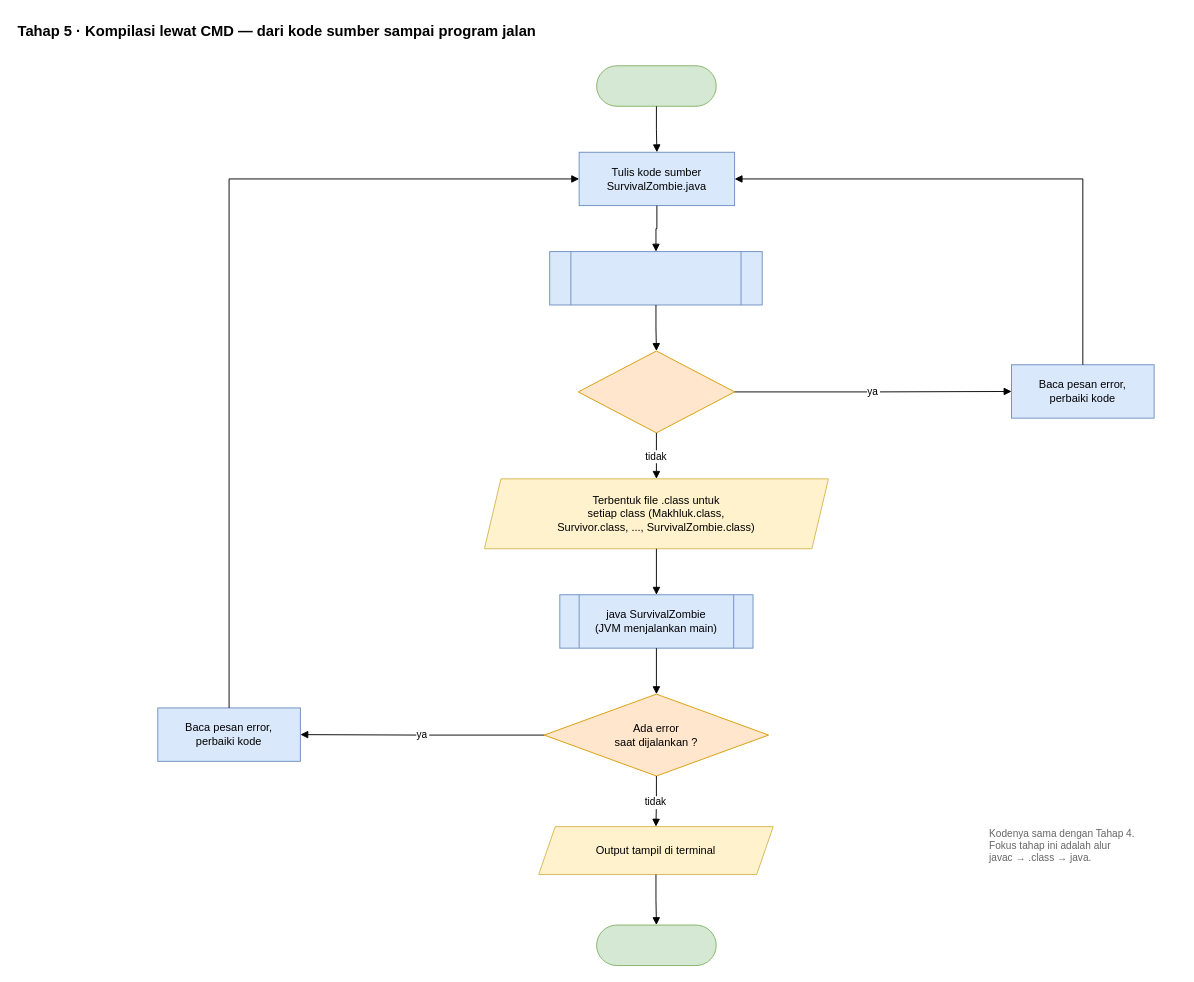
This 1194x982 diagram has some shape labels left out. The shapes that lost their labels are listed below. From the top down, each one's centre as x and y in pixels, then its label:
At point (656, 85): "Mulai".
At point (655, 278): "javac SurvivalZombie.java (kompilasi ke bytecode)".
At point (656, 391): "Ada error kompilasi ?".
At point (656, 945): "Selesai".
